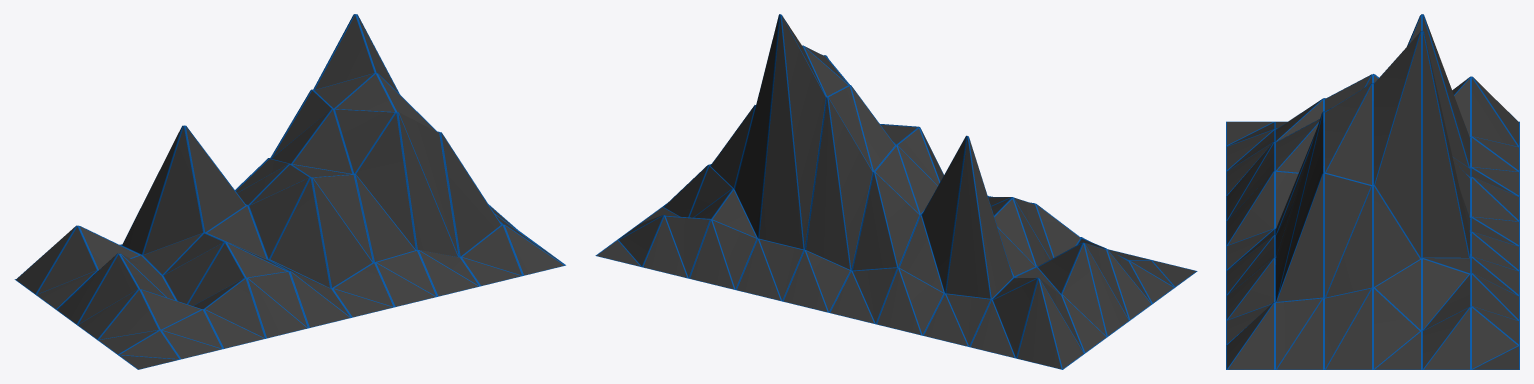
File: mountain4.fbx
The picture shows the model from 3 angles, left to right: view 1: azimuth 30°, elevation 25°; view 2: azimuth 150°, elevation 25°; view 3: azimuth 270°, elevation 25°; orthographic projection. The views are drawn at different scales.
Parts seen in each view (by area): view 1: pPlane1; view 2: pPlane1; view 3: pPlane1.
Part boxes in pixels (x1,y1,x2,y2): pPlane1: [14, 14, 565, 369]; pPlane1: [595, 14, 1197, 369]; pPlane1: [1226, 14, 1519, 369].
Bounding box in the file's own units: 100 × 49.51 × 50.
